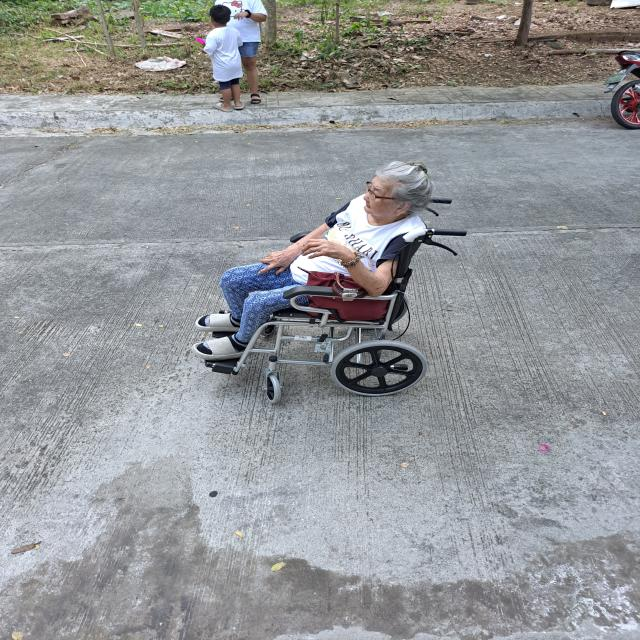wheelchairs: (202, 196, 478, 412)
